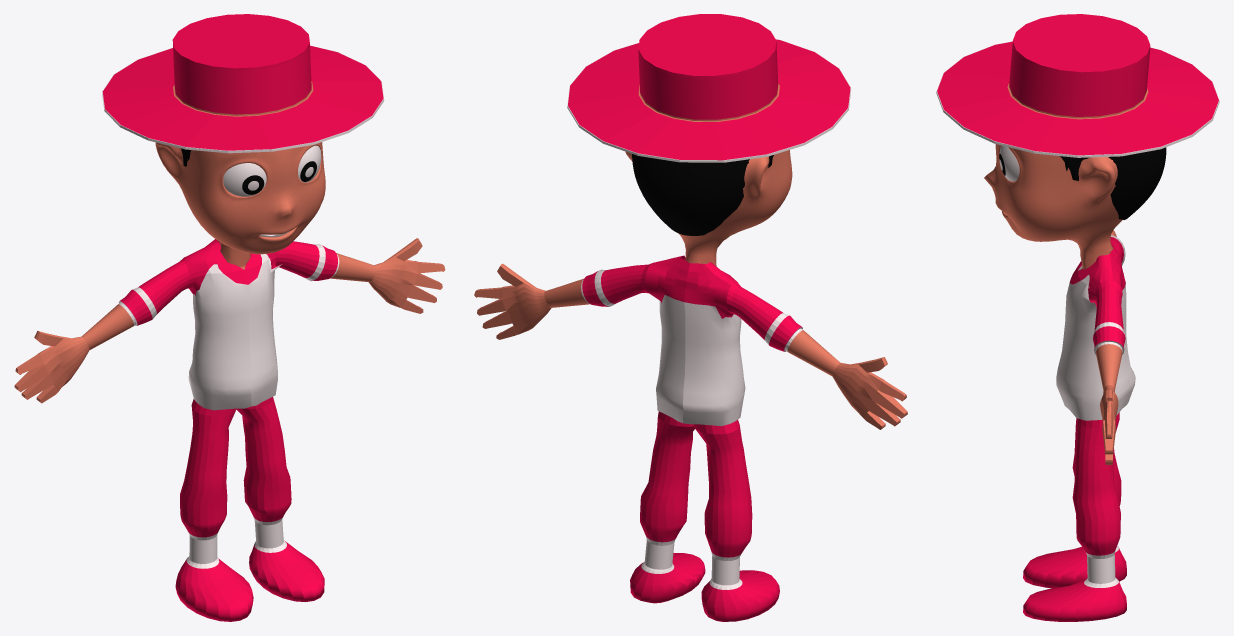
The picture shows the model from 3 angles, left to right: view 1: azimuth 30°, elevation 25°; view 2: azimuth 150°, elevation 25°; view 3: azimuth 270°, elevation 25°; orthographic projection.
Visible parts, largest first — view 1: Boy_With_Color; view 2: Boy_With_Color; view 3: Boy_With_Color.
Part boxes in pixels (box(x1,y1,x2,y2)): Boy_With_Color: box(14, 14, 445, 621); Boy_With_Color: box(474, 14, 907, 621); Boy_With_Color: box(936, 14, 1219, 621).
Bounding box in the file's own units: 589 × 734 × 338.
